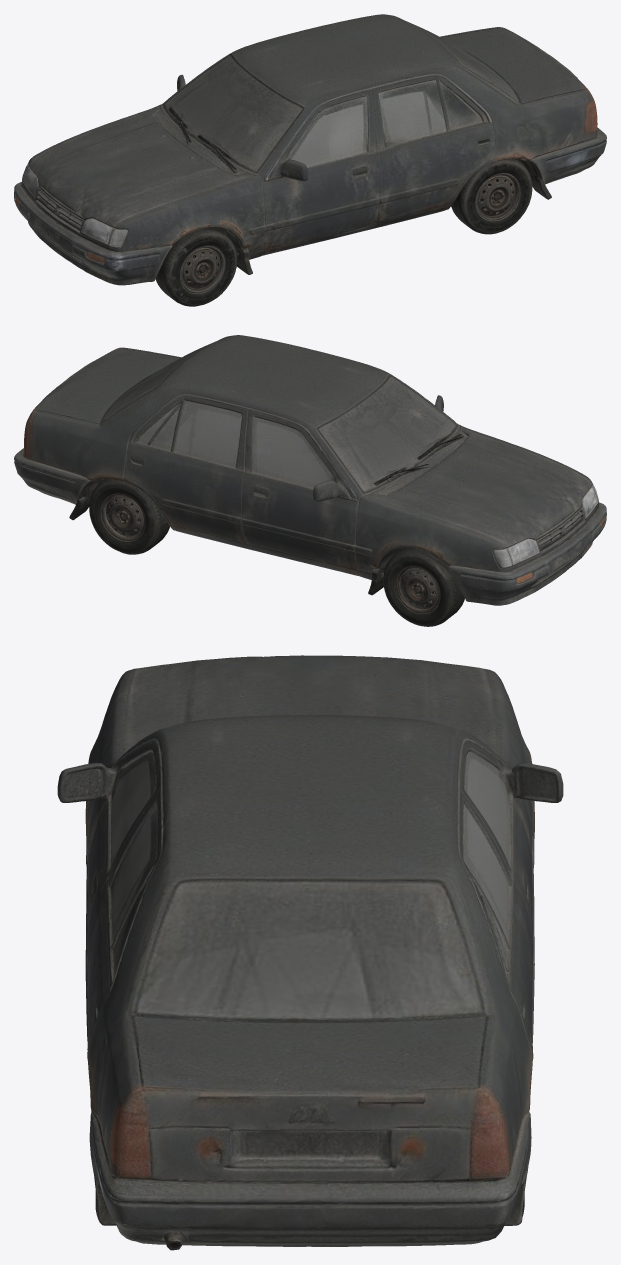
Rendered from car_sedan_light_q4.glb.
3 renders of one model, top to bottom at view 1: azimuth 30°, elevation 25°; view 2: azimuth 150°, elevation 25°; view 3: azimuth 270°, elevation 25°, orthographic. The views are drawn at different scales.
Bounding box in the file's own units: 1.9 × 0.5968 × 0.8109.
1 material, 1 textured.
